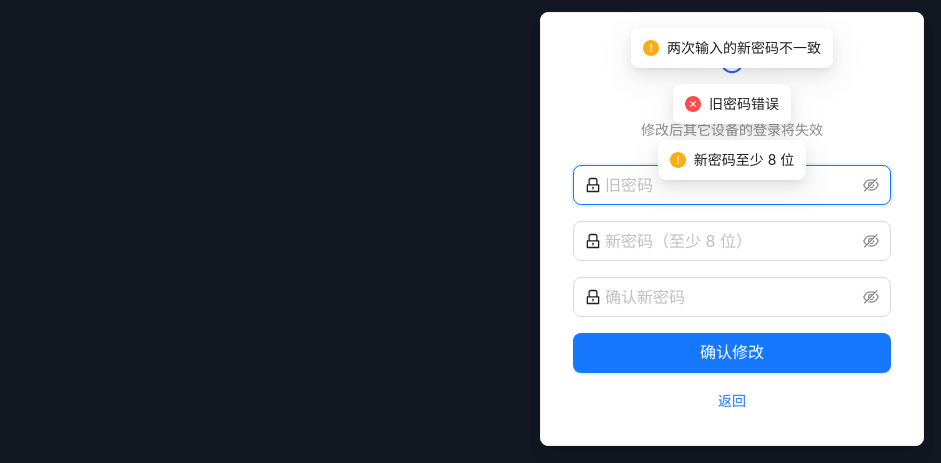
Test: ChangePassword 页 › 改密成功：提交旧/新密码 → 清会话（logout）→ 回登录页
Expected: the button with test id "change-pwd-submit" is shown, [573,333,891,373]
Type "old-password" into the password field with test id "change-pwd-old" at point(732, 185), box [605,173,859,197]
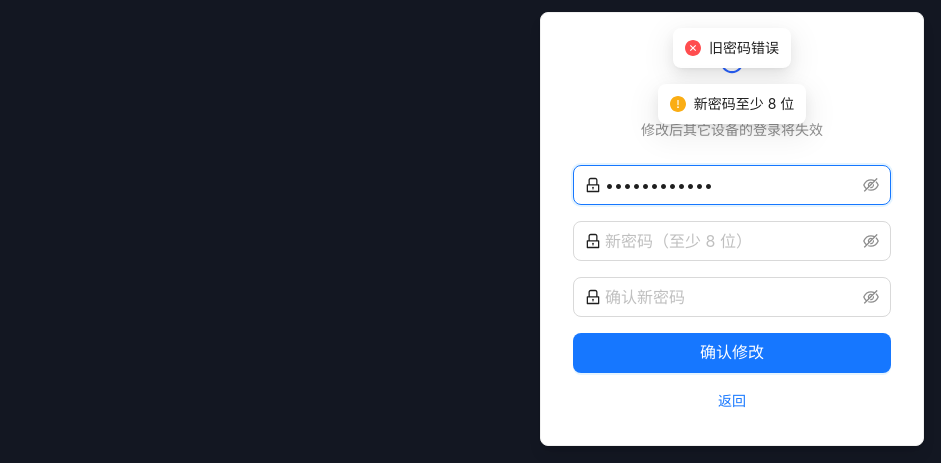
Type "new-password1" into the password field with test id "change-pwd-new" at point(732, 241), box [605,229,859,253]
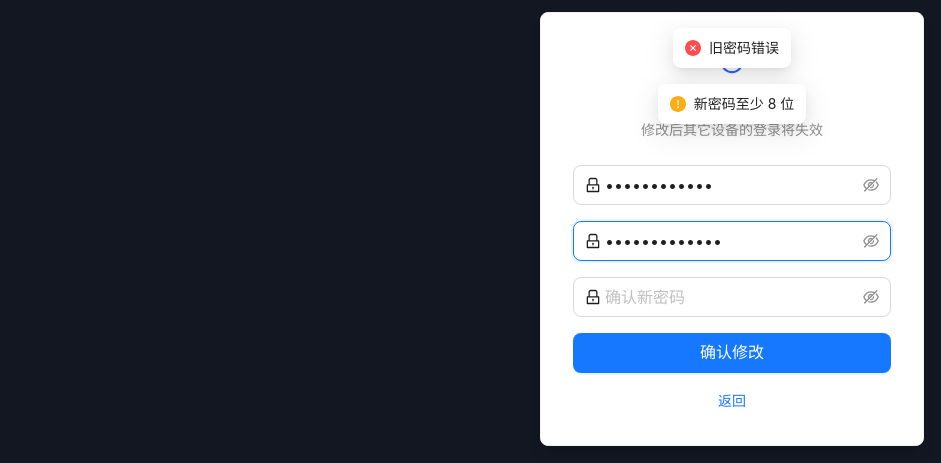
Type "new-password1" into the password field with test id "change-pwd-confirm" at point(732, 297), box [605,285,859,309]
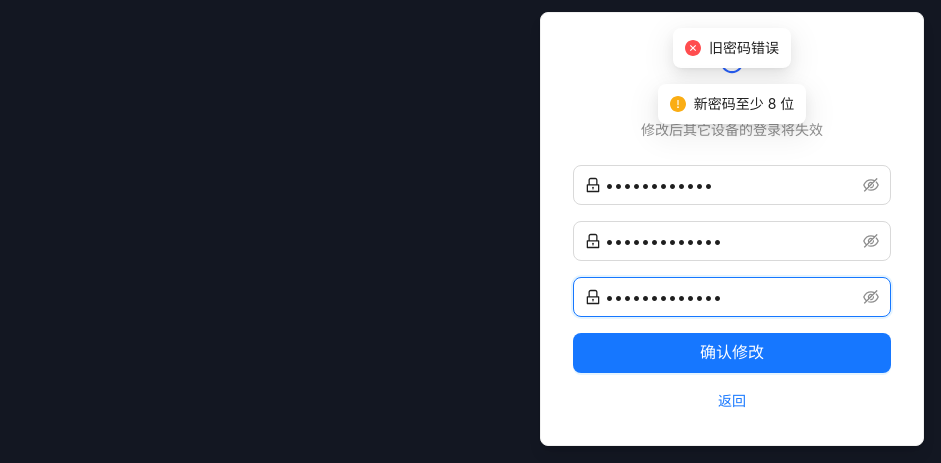
Click the button with test id "change-pwd-submit" at point(732, 353), box [573,333,891,373]
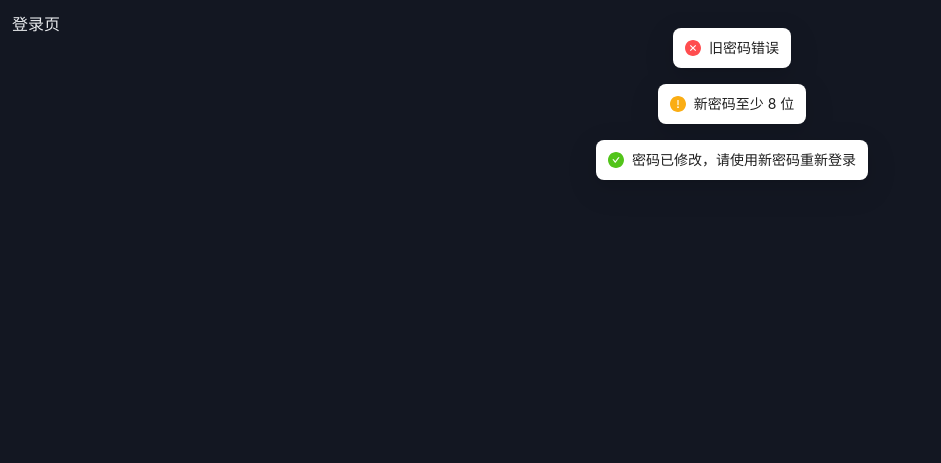
Expected: the text "登录页" is shown, [12,14,60,34]
